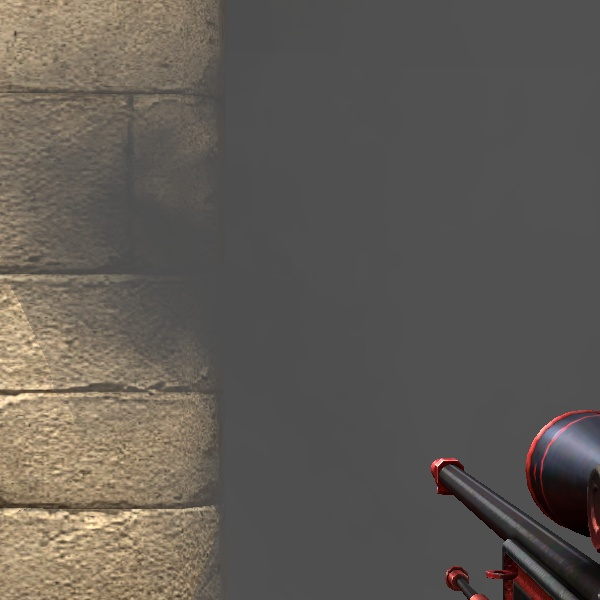t_head: (473, 353, 595, 596)
